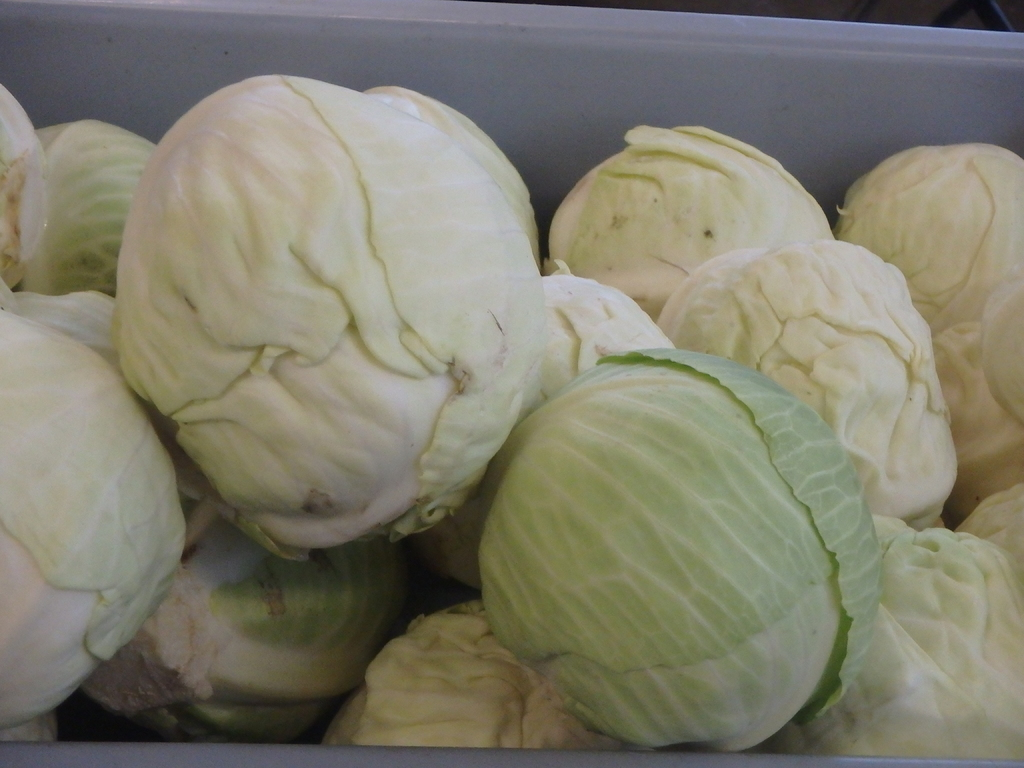Cabbage: (0, 74, 1023, 757)
